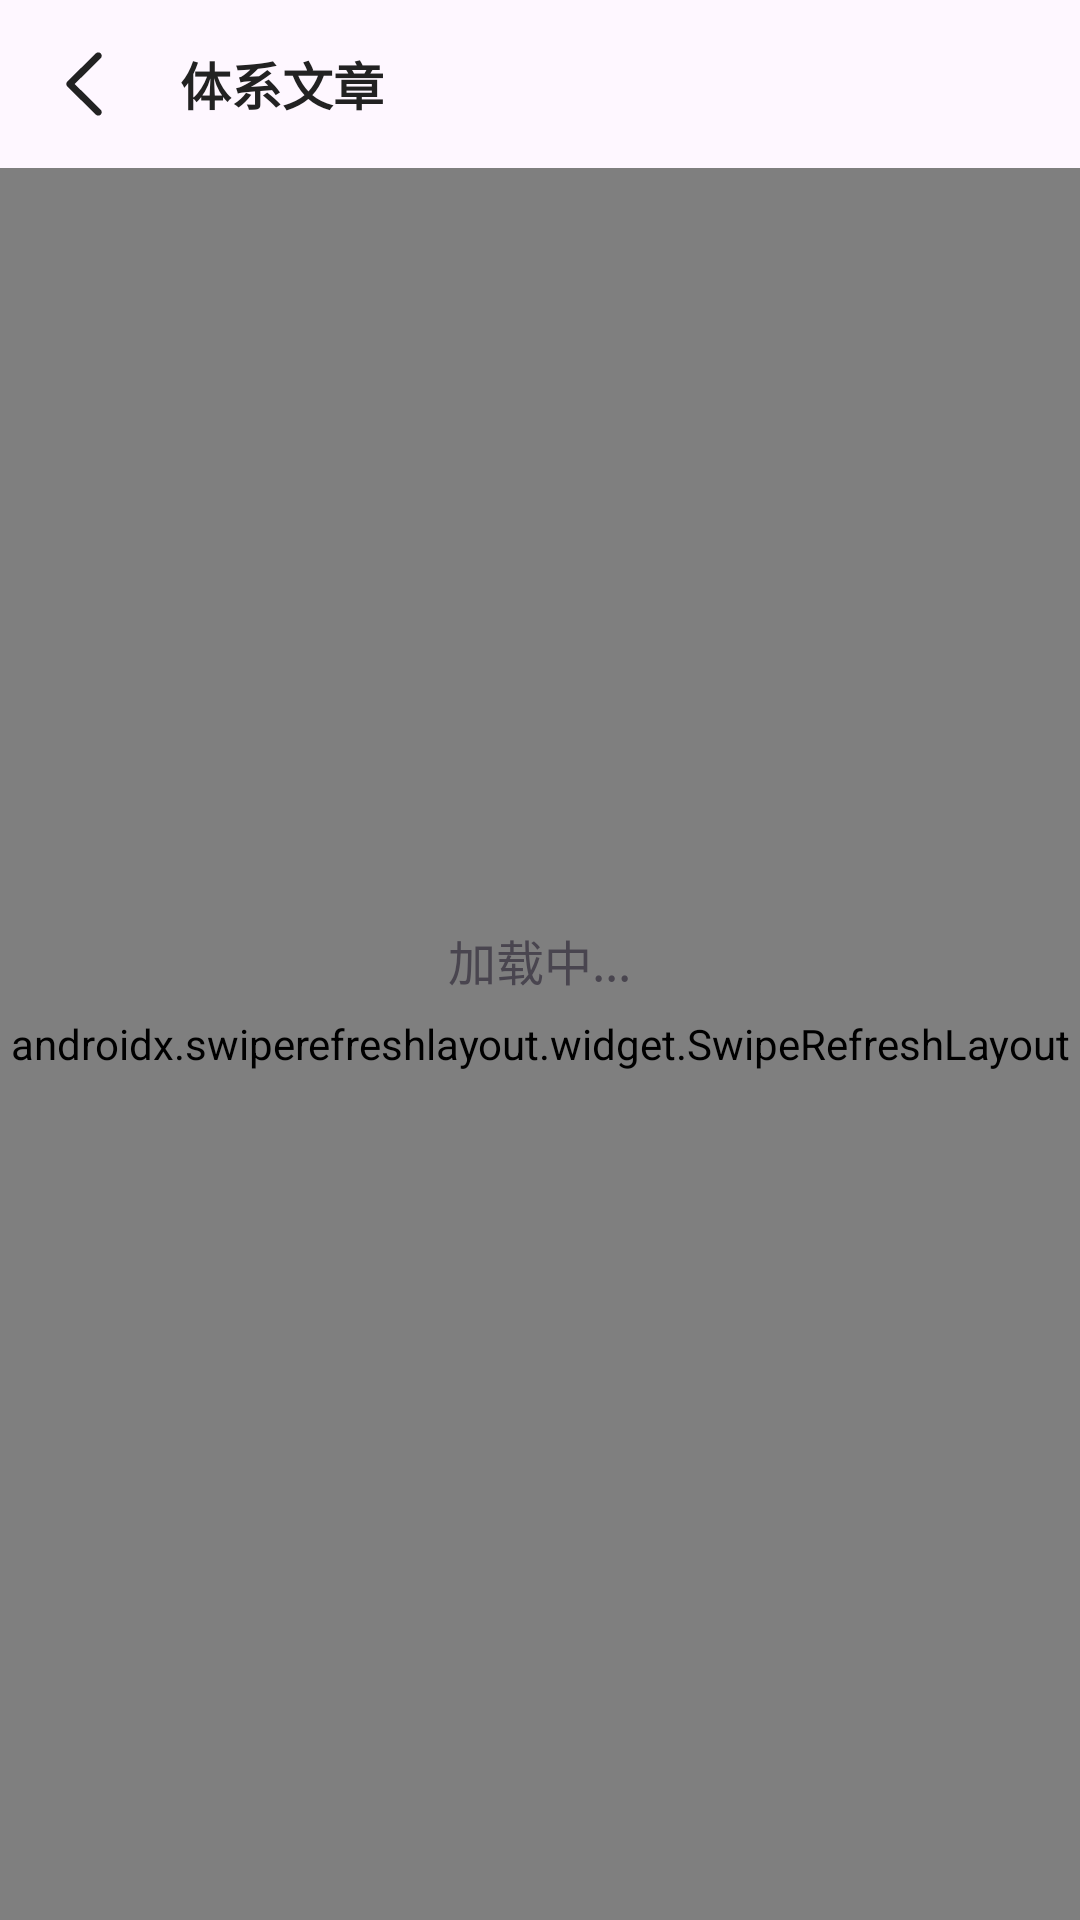

Where icons sit on this 1080px x 1920px app screen, as (x1, y1, x2, y2):
back: (66, 52, 102, 116)
